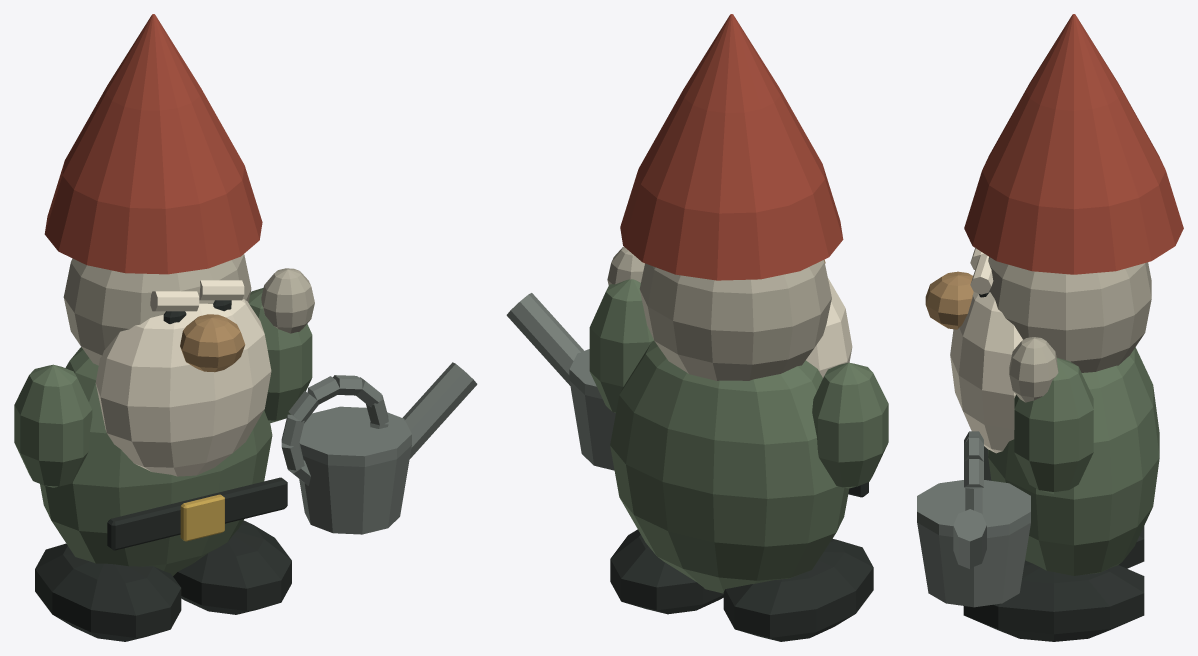
The model's file is watering-gnome.glb.
3 renders of one model, left to right at view 1: azimuth 30°, elevation 25°; view 2: azimuth 150°, elevation 25°; view 3: azimuth 270°, elevation 25°, orthographic. The views are drawn at different scales.
Parts seen in each view (by area): view 1: watering-gnome; view 2: watering-gnome; view 3: watering-gnome.
Boxes of the visible parts, <box> form: watering-gnome: <box>14,14,477,641</box>; watering-gnome: <box>506,14,888,641</box>; watering-gnome: <box>917,14,1183,641</box>.
Size of the model in its own units: 1.18 by 1.63 by 0.6677.
